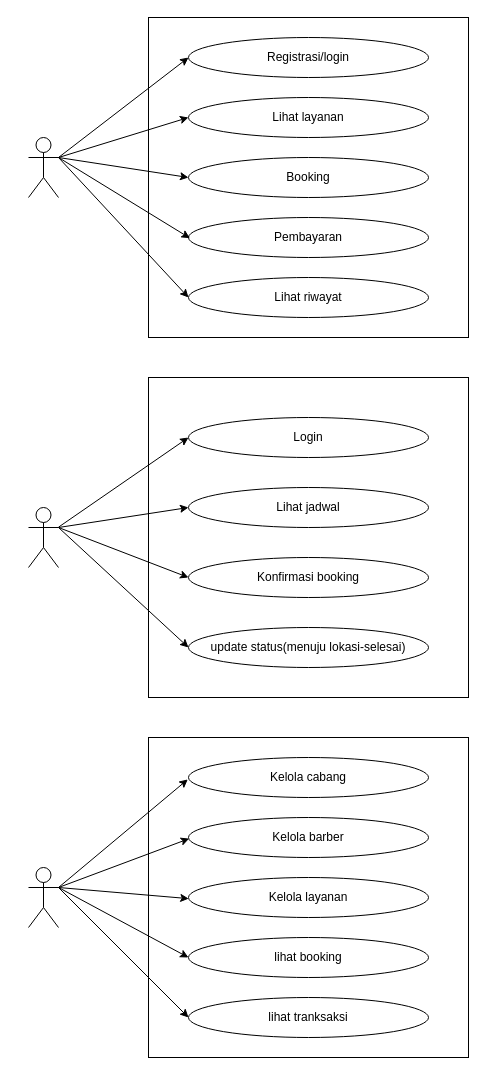
Some shapes in this 486 by 1075 pixel diagram are drawn without their labels. Here are the shapes that lost their labels. From the top down, the centre of each, then its label:
At (43,167): "Costumer".
At (43,537): "Barber".
At (43,897): "Admin".
